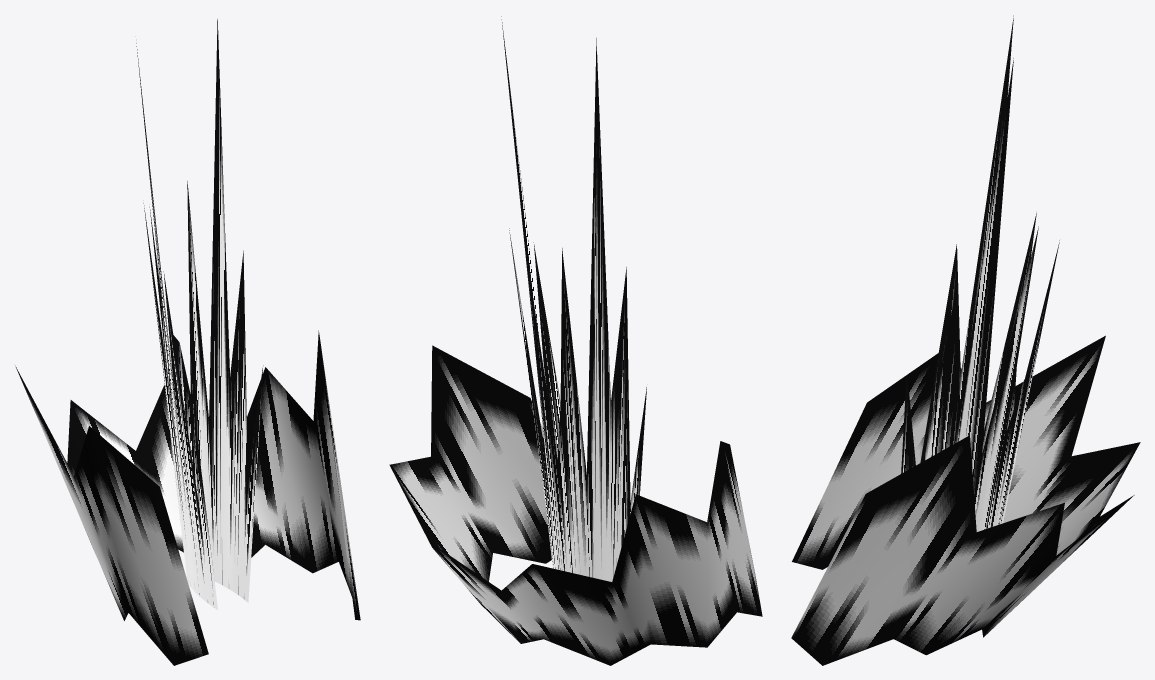
File: EffCommonActionSmokeH.obj
3 renders of one model, left to right at view 1: azimuth 30°, elevation 25°; view 2: azimuth 150°, elevation 25°; view 3: azimuth 270°, elevation 25°, orthographic. The views are drawn at different scales.
Parts seen in each view (by area): view 1: polygon0, polygon1; view 2: polygon0, polygon1; view 3: polygon0, polygon1.
Part boxes in pixels (box(x1,y1,x2,y2)): polygon0: box(15, 330, 360, 665); polygon1: box(136, 19, 263, 609); polygon0: box(389, 345, 762, 665); polygon1: box(501, 16, 646, 581); polygon0: box(791, 335, 1140, 665); polygon1: box(901, 15, 1059, 531).
Size of the model in its own units: 11.92 by 26.14 by 14.21.
Materials: 2 (2 with a texture image).
